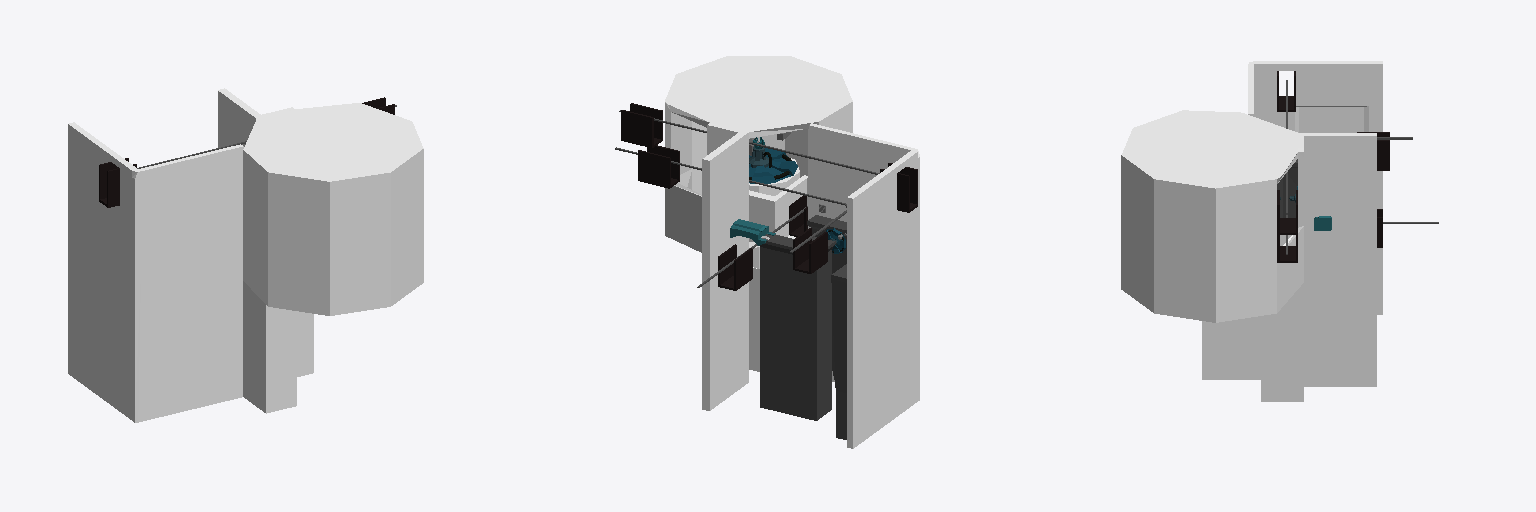
File: cargoRoom2.obj
3 renders of one model, left to right at view 1: azimuth 30°, elevation 25°; view 2: azimuth 150°, elevation 25°; view 3: azimuth 270°, elevation 25°, orthographic.
Parts seen in each view (by area): view 1: walls_removed, tram_door_3_1; view 2: walls_removed, platform_1, platform_2, tram_door_3_2, tram_door_1_1, tram_door_2_2, tram_door_1_3, tram_door_3_1, reactor_room reactorRoom:floorBase reactorRoom:pSphere1, entrance_wall, tram_door_2_1, cable_1; view 3: walls_removed, platform_2.
Boxes of the visible parts, box(x1,y1,x2,y2) form: walls_removed: box(68, 88, 423, 422); tram_door_3_1: box(99, 158, 136, 207); walls_removed: box(665, 56, 919, 448); platform_1: box(760, 234, 835, 420); platform_2: box(807, 215, 846, 439); tram_door_3_2: box(621, 103, 662, 147); tram_door_1_1: box(638, 145, 679, 188); tram_door_2_2: box(718, 244, 752, 290); tram_door_1_3: box(793, 228, 827, 273); tram_door_3_1: box(880, 163, 917, 212); reactor_room reactorRoom:floorBase reactorRoom:pSphere1: box(749, 148, 797, 183); entrance_wall: box(730, 219, 775, 245); tram_door_2_1: box(789, 195, 807, 236); cable_1: box(615, 147, 846, 252); walls_removed: box(1121, 61, 1382, 401); platform_2: box(1277, 159, 1297, 217).
Bounding box in the file's own units: 670 × 550 × 617.